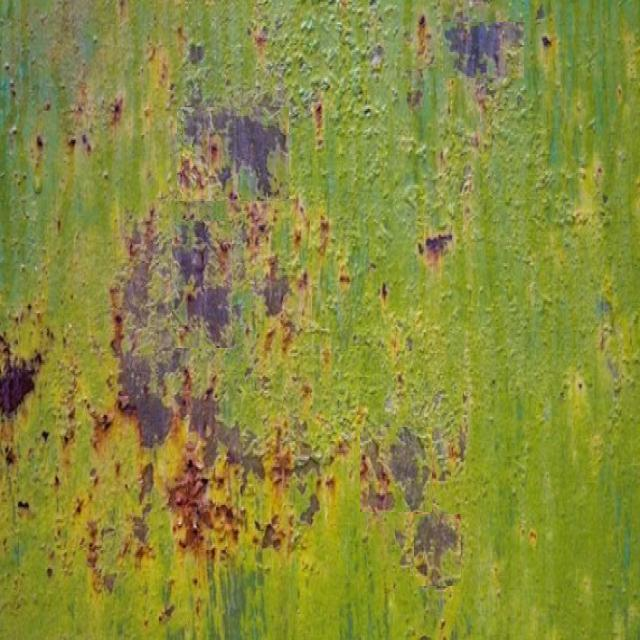Pitting Corrosion: (112, 90, 287, 556)
